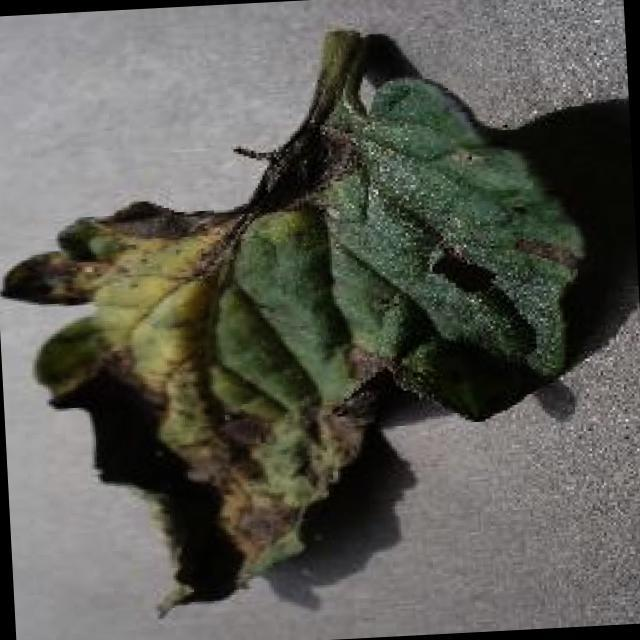Tomato Early blight leaf: (0, 62, 600, 628)
